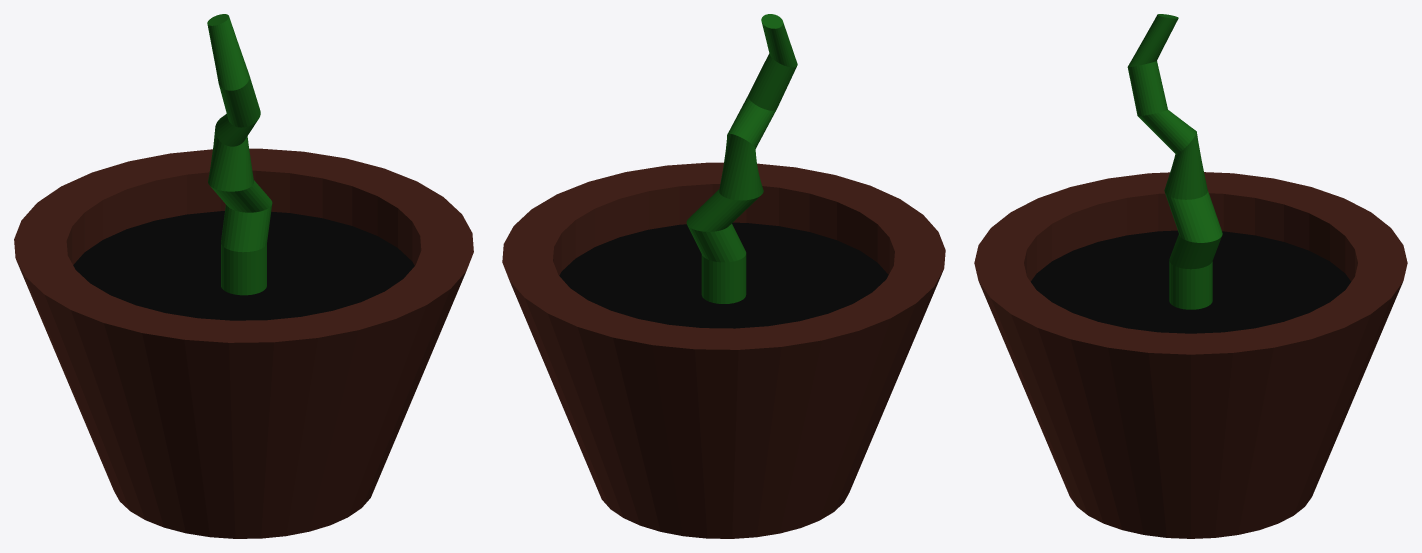
Rendered from plant.fbx.
The picture shows the model from 3 angles, left to right: view 1: azimuth 30°, elevation 25°; view 2: azimuth 150°, elevation 25°; view 3: azimuth 270°, elevation 25°; orthographic projection. The views are drawn at different scales.
Visible parts, largest first — view 1: plant; view 2: plant; view 3: plant.
Boxes of the visible parts, x1,y1,x2,y2 form: plant: (14,14,473,538); plant: (502,14,945,538); plant: (974,14,1407,538).
Bounding box in the file's own units: 101 × 117 × 101.
